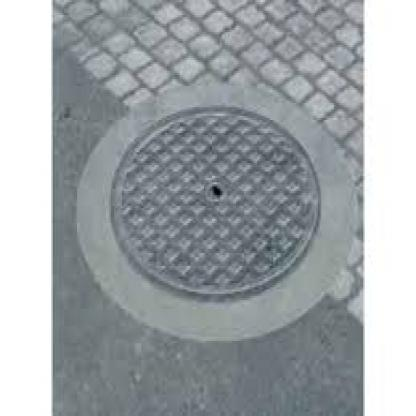closed manhole-not overflowing-: (103, 106, 338, 304)
